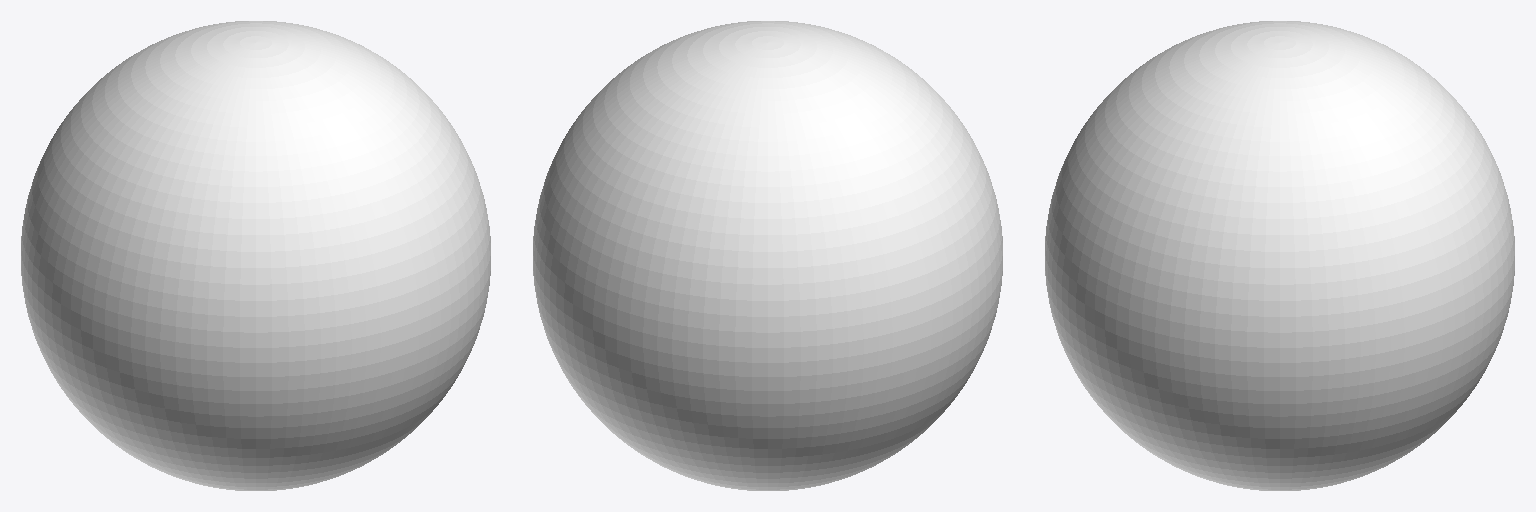
File: The Earth.obj
The picture shows the model from 3 angles: view 1: azimuth 30°, elevation 25°; view 2: azimuth 150°, elevation 25°; view 3: azimuth 270°, elevation 25°; orthographic projection.
Parts seen in each view (by area): view 1: Sphere; view 2: Sphere; view 3: Sphere.
Boxes of the visible parts, <box> form: Sphere: <box>21,21,490,490</box>; Sphere: <box>533,21,1002,490</box>; Sphere: <box>1045,21,1514,490</box>.
Size of the model in its own units: 999 by 1000 by 999.